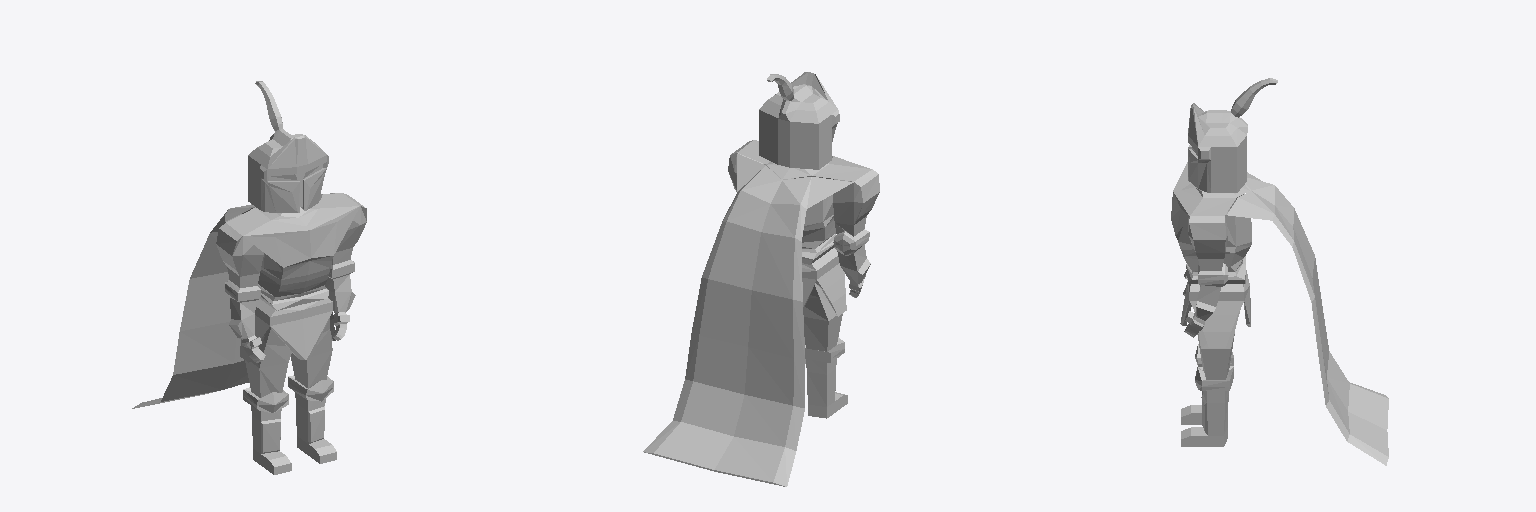
The model's file is character.obj.
The picture shows the model from 3 angles: view 1: azimuth 30°, elevation 25°; view 2: azimuth 150°, elevation 25°; view 3: azimuth 270°, elevation 25°; orthographic projection.
Visible parts, largest first — view 1: knight, capa; view 2: capa, knight; view 3: knight, capa.
Boxes of the visible parts, x1,y1,x2,y2 form: knight: [216, 81, 366, 474]; capa: [132, 193, 334, 408]; capa: [643, 154, 853, 486]; knight: [728, 72, 879, 418]; knight: [1171, 78, 1277, 446]; capa: [1227, 172, 1388, 465].
Size of the model in its own units: 0.2111 by 0.4942 by 0.2755.